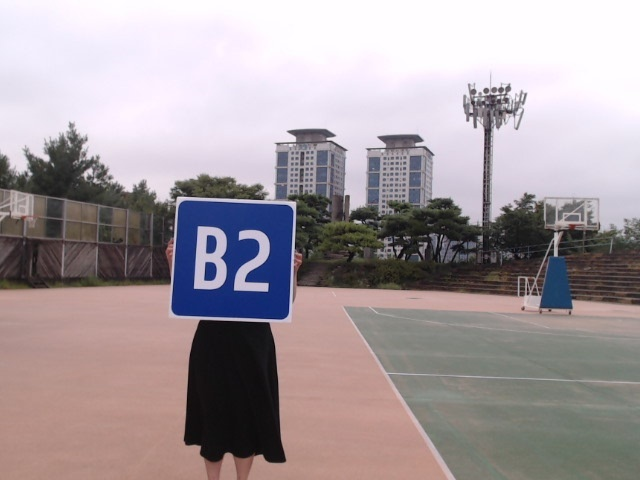delivery_b2: (172, 199, 295, 322)
